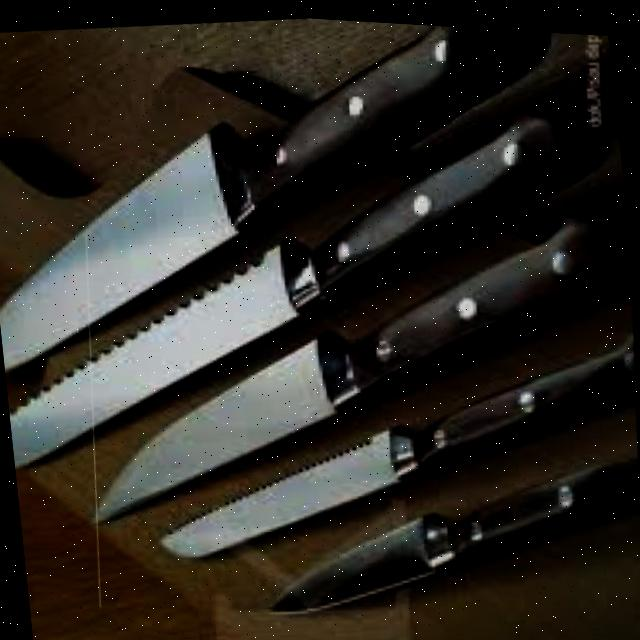knife: (0, 69, 603, 497), (0, 0, 561, 401), (55, 173, 640, 552), (134, 297, 640, 583), (243, 428, 640, 631)
